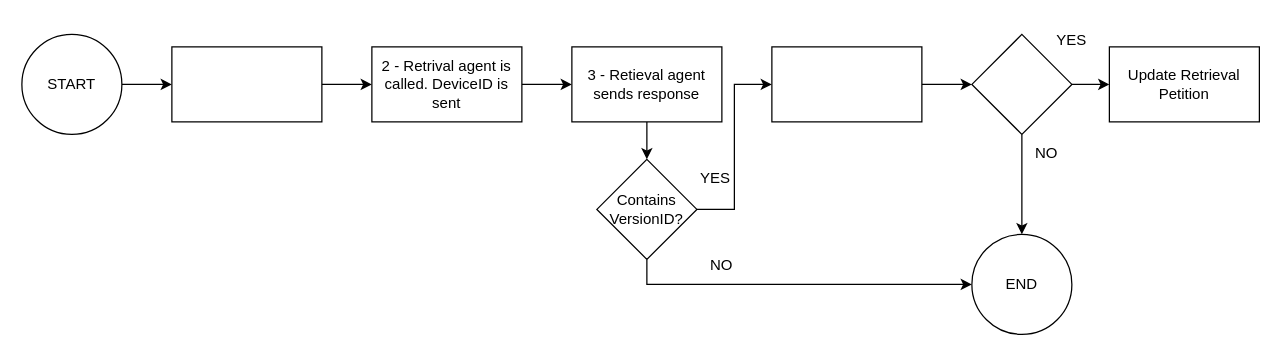
The diagram is 1281 pixels wide and 356 high, and some of its shapes have lost their labels. The box of each missing label's shape, as (x1, y1, x2, y2) in pixels:
1 - DeviceID instance created from AuthorKey and ClassID: (171, 46, 322, 122)
4 - VersionID is checked to evaluate is update is superior: (771, 46, 922, 122)
Is update version superior?: (971, 33, 1072, 134)
